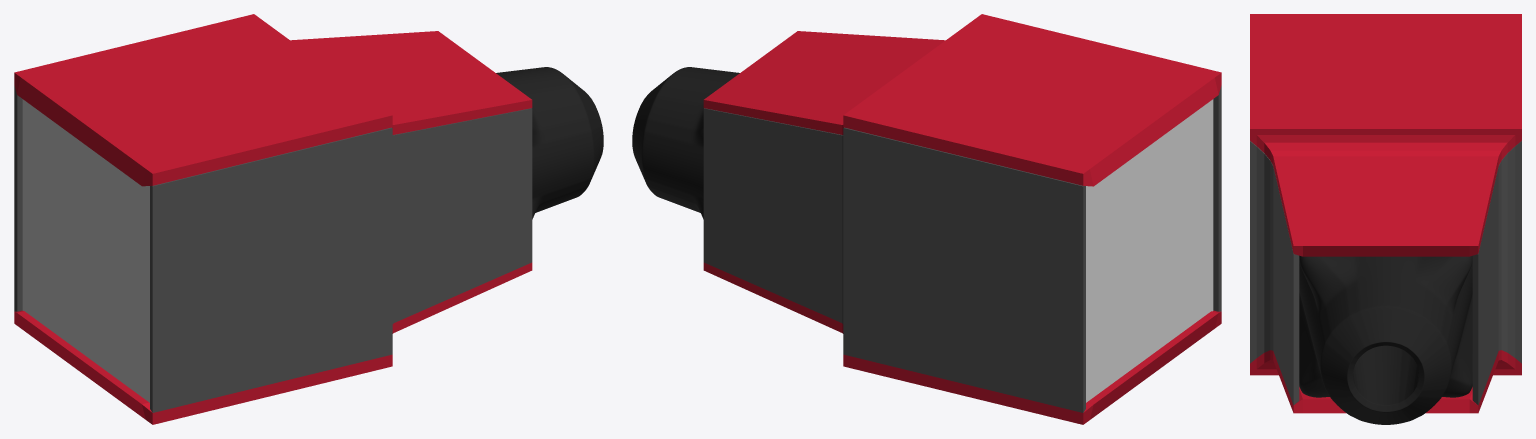
File: Thruster.fbx
3 views of the same model, side by side, from view 1: azimuth 30°, elevation 25°; view 2: azimuth 150°, elevation 25°; view 3: azimuth 270°, elevation 25° (orthographic).
Visible parts, largest first — view 1: Cube.003, Cube.004, Cube, Cylinder, Cube.002, Cube.001; view 2: Cube.001, Cube.004, Cube, Cylinder, Cube.002, Cube.003; view 3: Cube.004, Cylinder, Cube.003, Cube.001, Cube.002.
Boxes of the visible parts, left/top/right/bottom form: Cube.003: left=150, top=108, right=532, bottom=412; Cube.004: left=14, top=14, right=532, bottom=186; Cube: left=22, top=99, right=149, bottom=402; Cylinder: left=496, top=67, right=603, bottom=219; Cube.002: left=14, top=262, right=532, bottom=424; Cube.001: left=14, top=86, right=22, bottom=311; Cube.001: left=703, top=108, right=1085, bottom=412; Cube.004: left=703, top=14, right=1221, bottom=186; Cube: left=1086, top=99, right=1213, bottom=402; Cylinder: left=632, top=67, right=739, bottom=219; Cube.002: left=703, top=262, right=1221, bottom=424; Cube.003: left=1213, top=85, right=1221, bottom=311; Cube.004: left=1250, top=14, right=1521, bottom=256; Cylinder: left=1299, top=255, right=1472, bottom=424; Cube.003: left=1250, top=141, right=1299, bottom=405; Cube.001: left=1472, top=141, right=1521, bottom=405; Cube.002: left=1250, top=350, right=1521, bottom=413.
Size of the model in its own units: 421 by 200 by 200.
